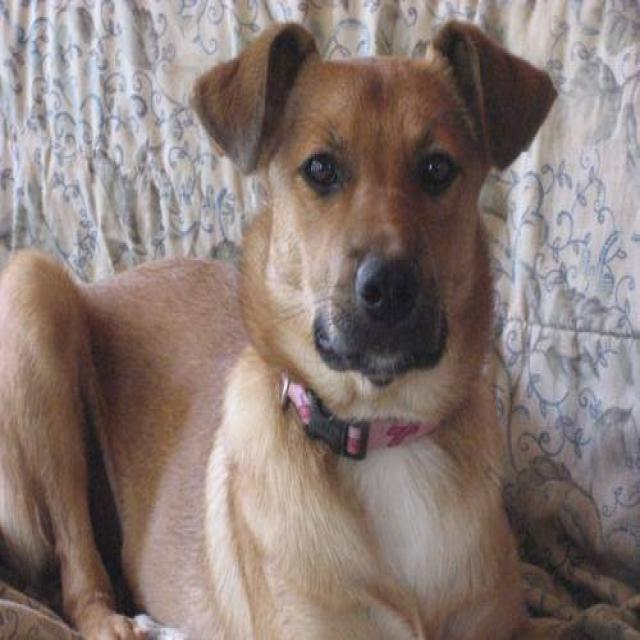dogs: (0, 19, 563, 640)
